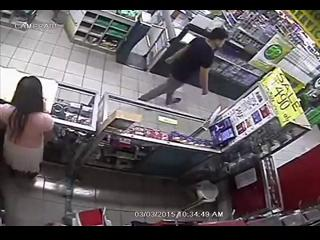Normal: (138, 27, 230, 106), (0, 76, 55, 180)
